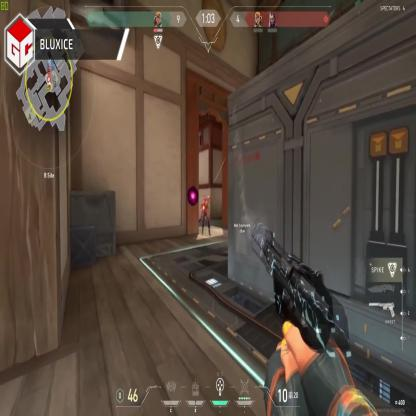enemy: (201, 195, 211, 238)
enemy_head: (205, 195, 209, 202)
